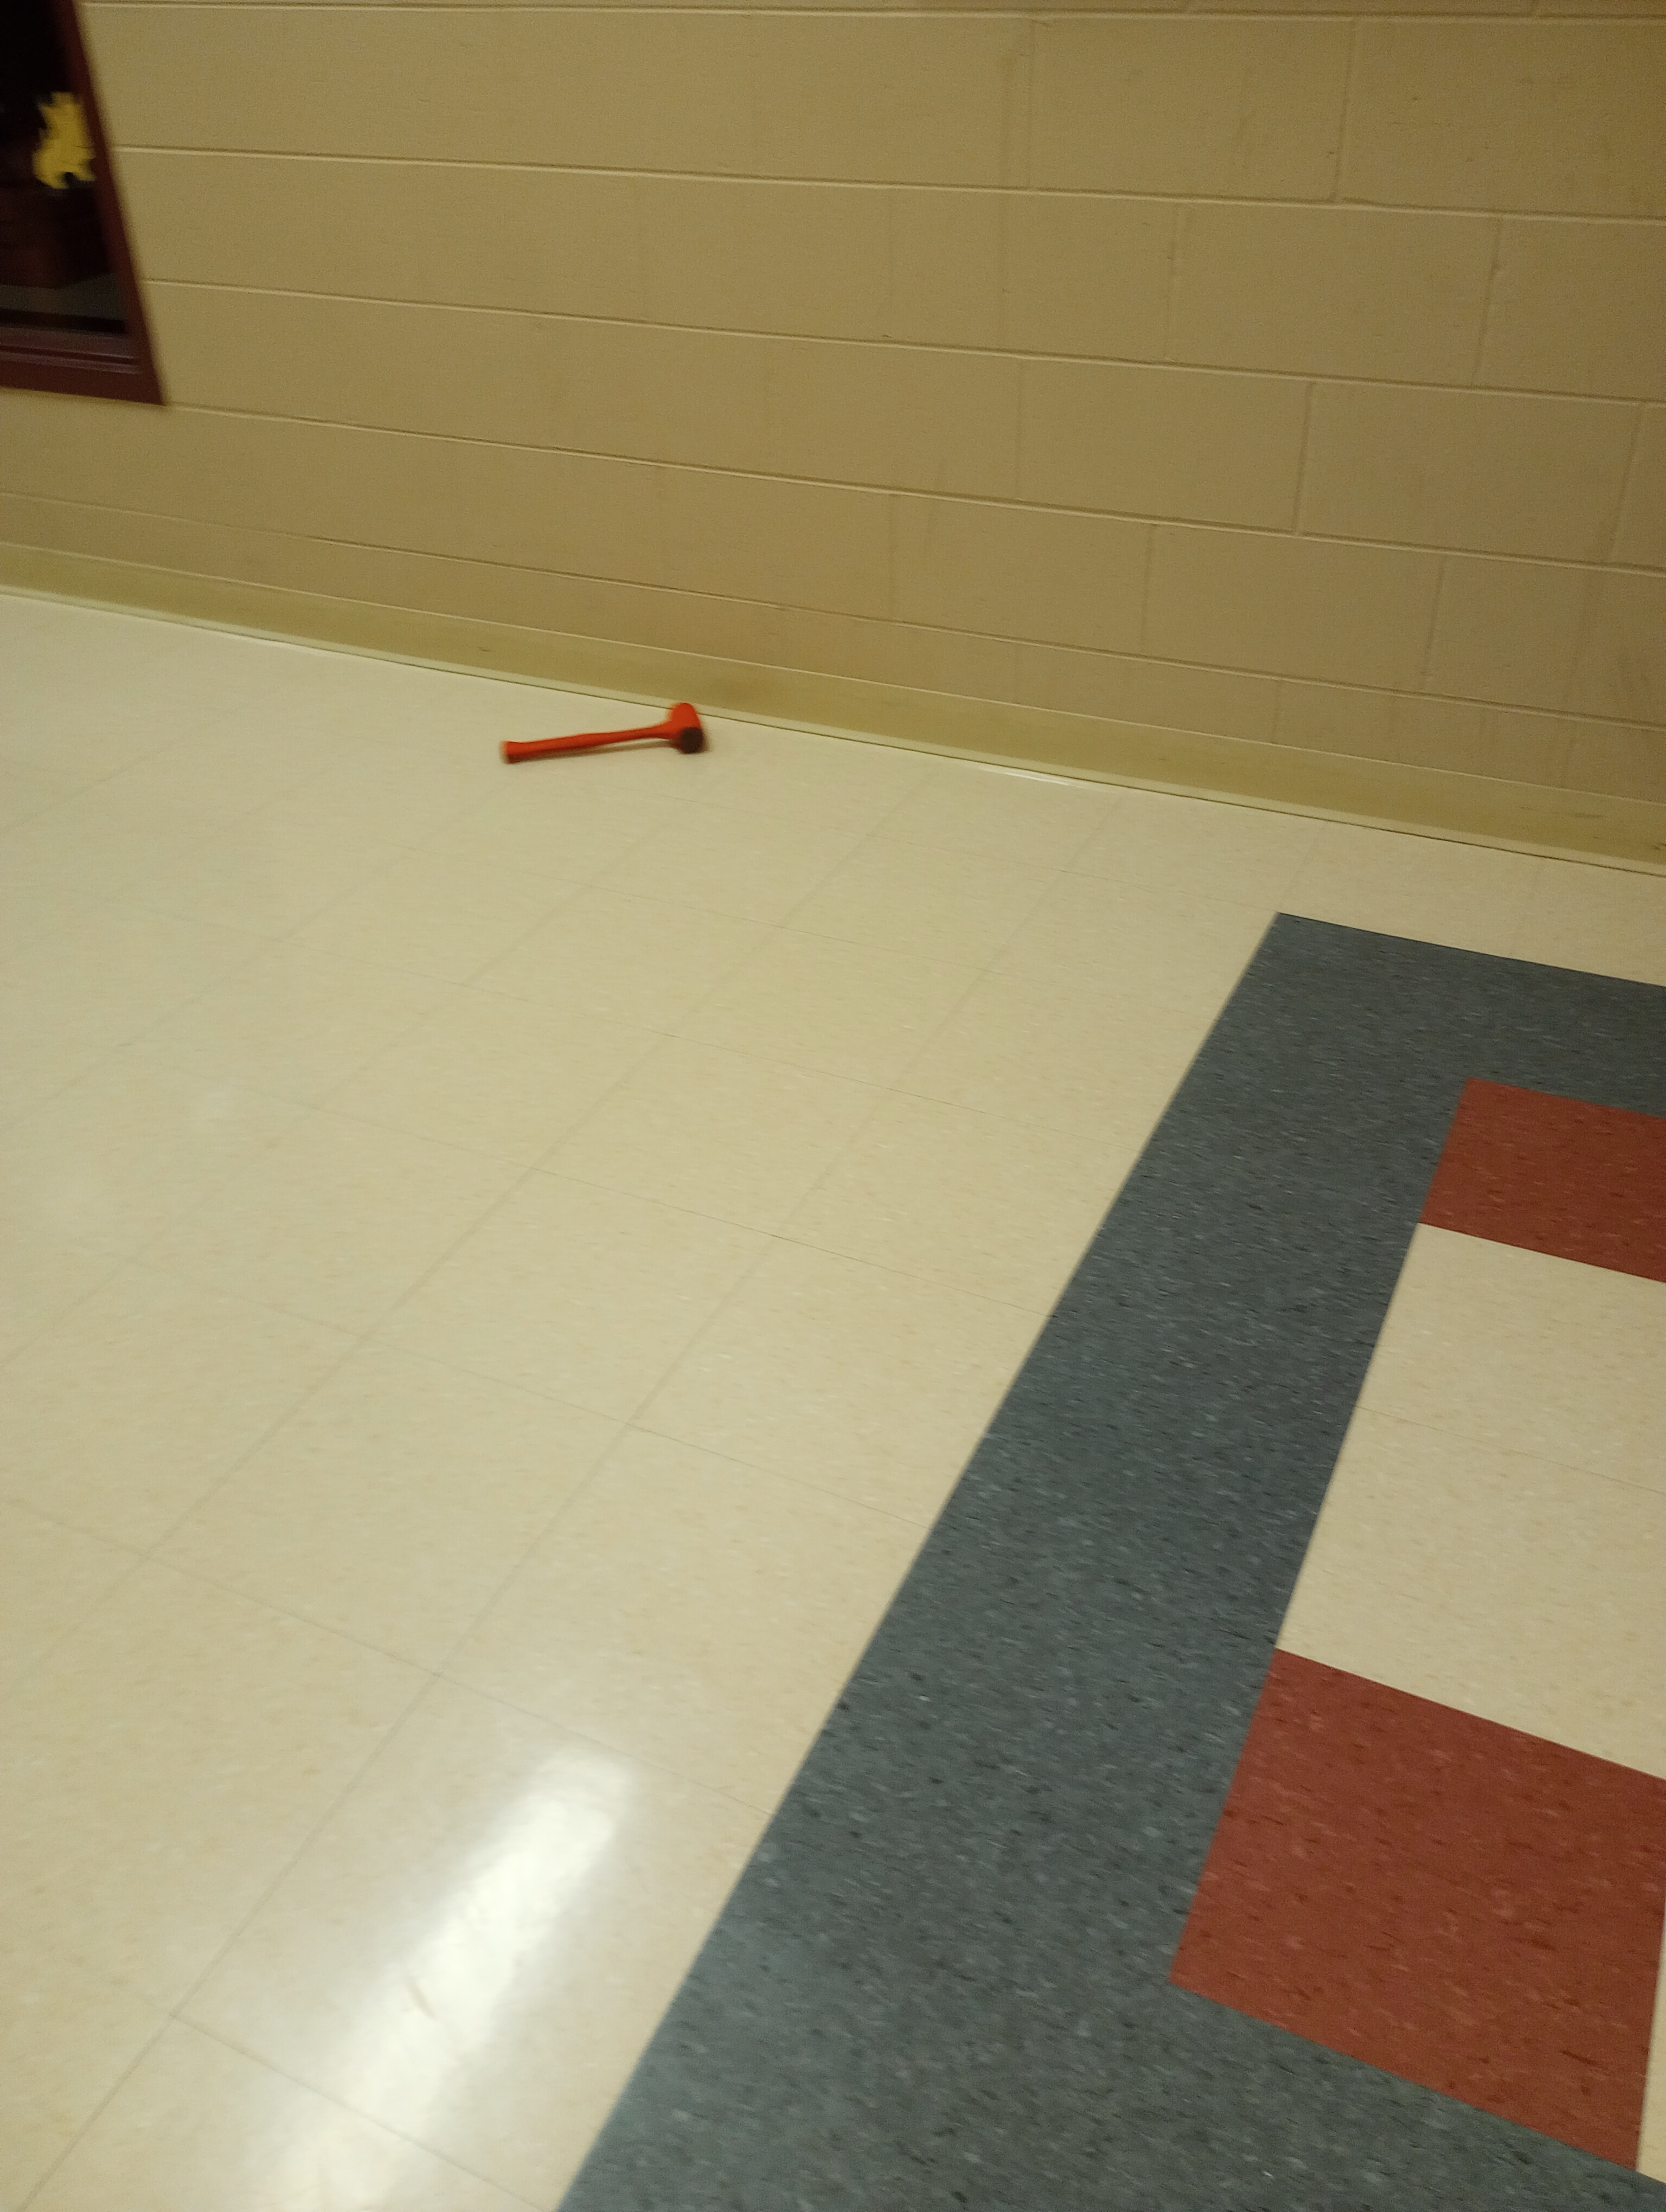hammer: (492, 682, 709, 796)
